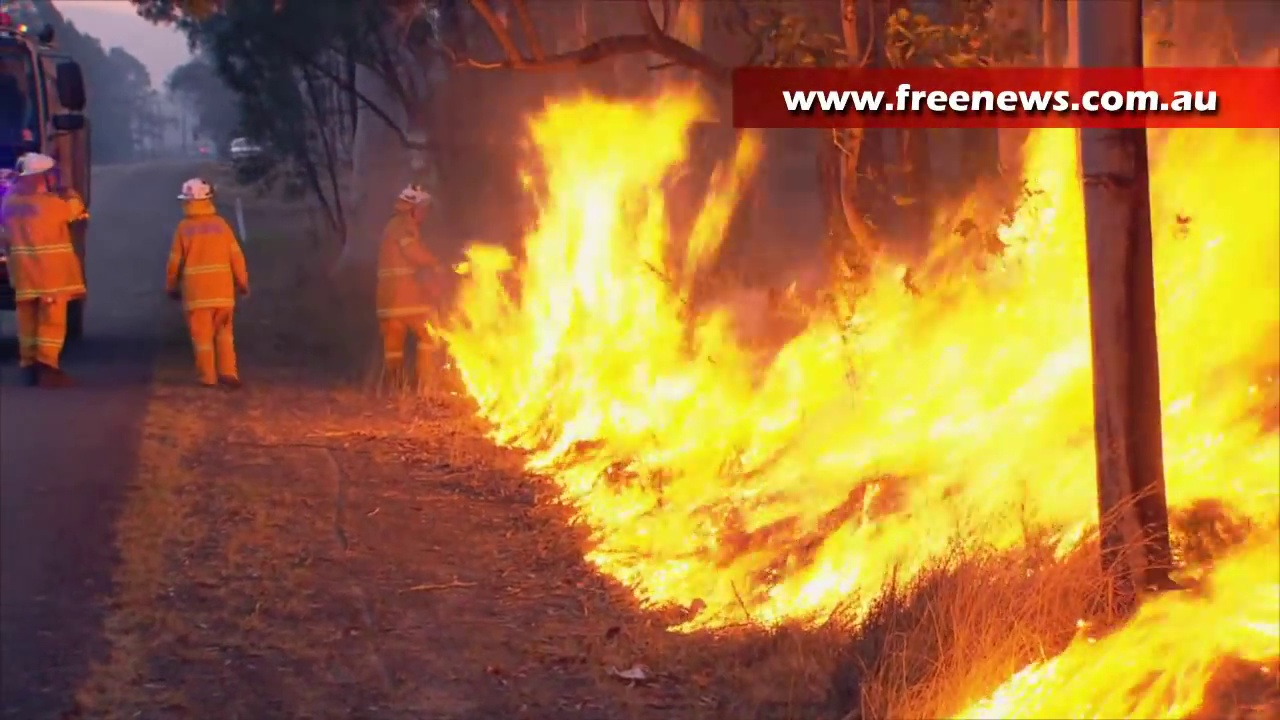fire: (441, 103, 1089, 627), (1146, 124, 1280, 703)
